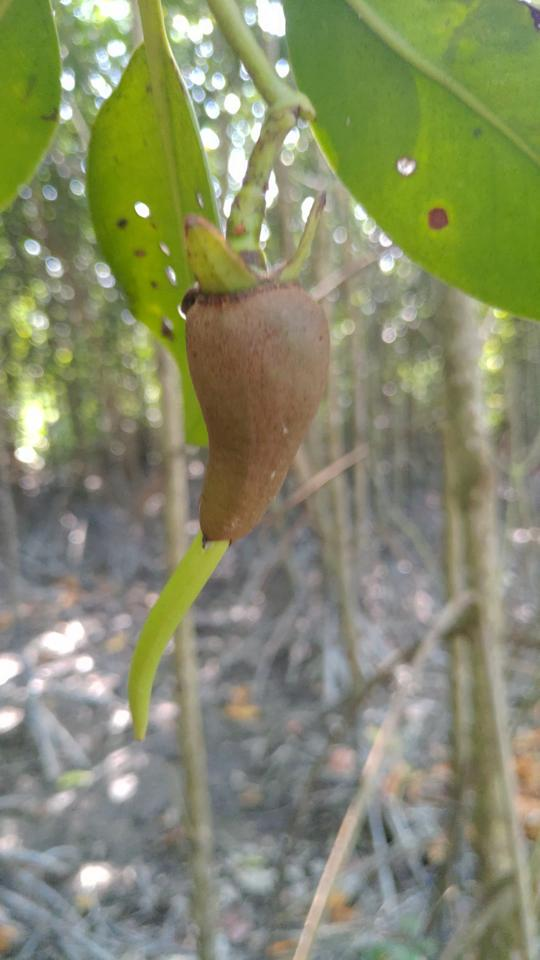mentah: (109, 181, 353, 755)
